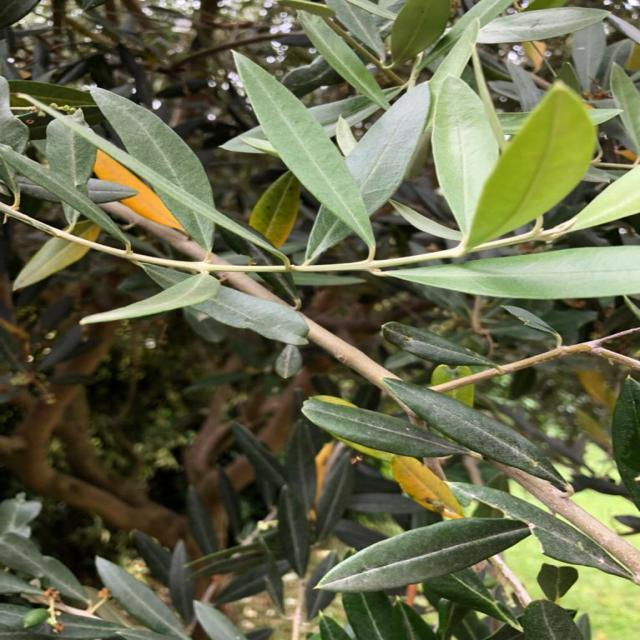OlivePeacockSpot: (391, 457, 464, 517)
